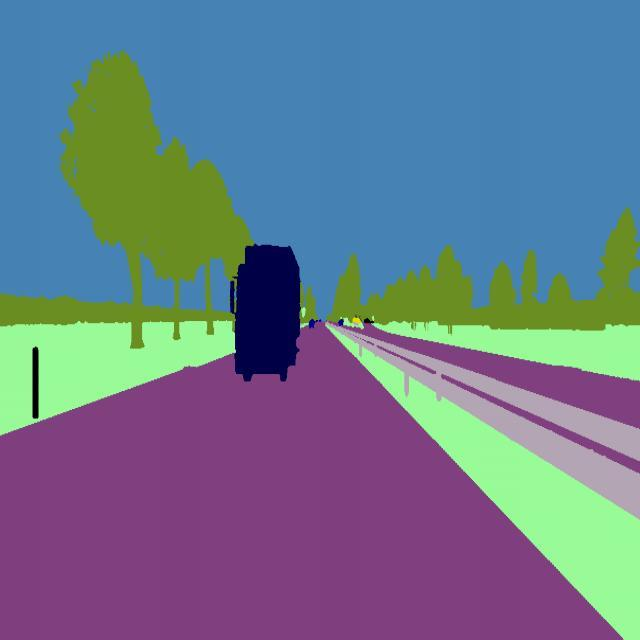safe: (306, 318, 316, 329), (338, 318, 346, 331)
unsafe: (228, 238, 306, 386)
